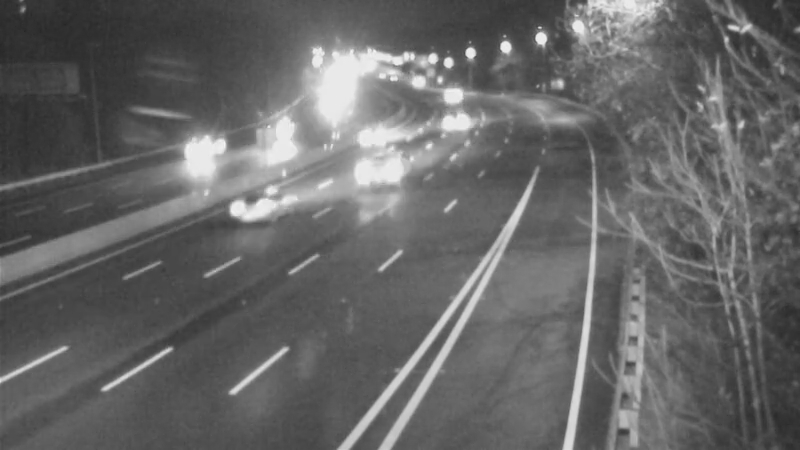vehicle: (349, 124, 429, 204), (215, 158, 295, 238), (158, 116, 238, 196), (428, 69, 478, 119), (430, 92, 480, 142), (346, 110, 396, 160), (249, 119, 299, 169)
